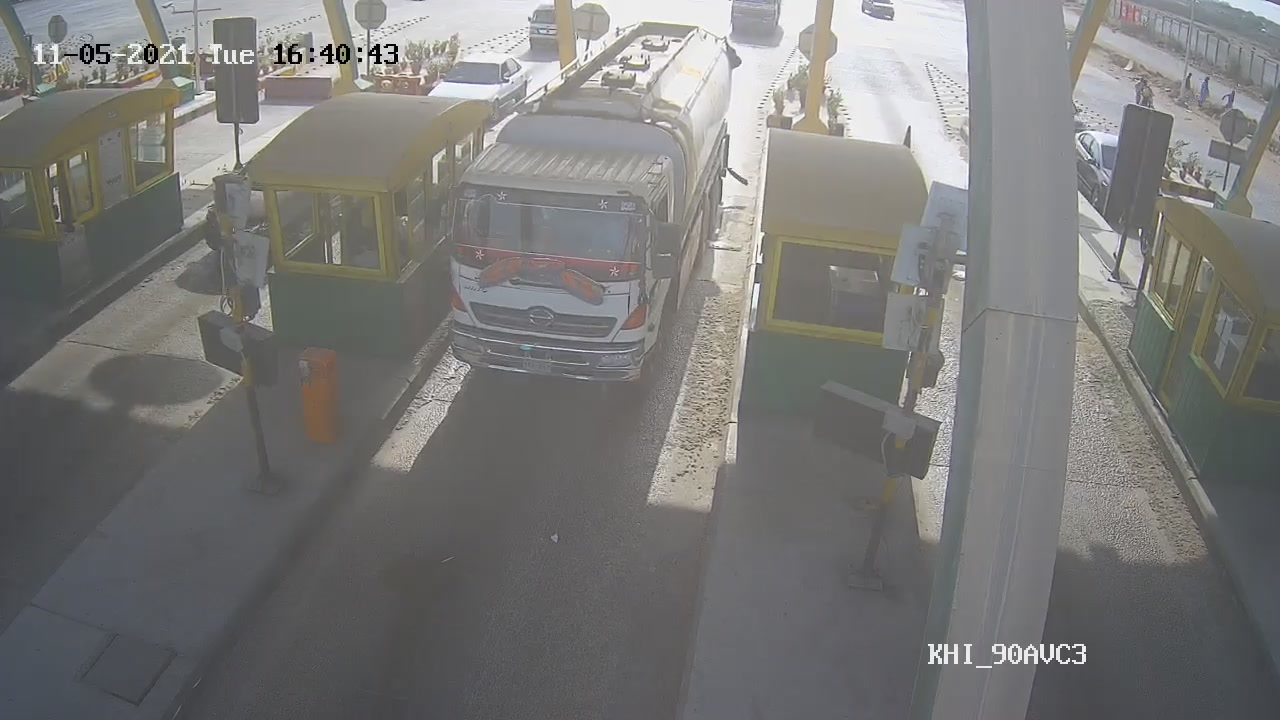F6: (443, 22, 747, 386)
